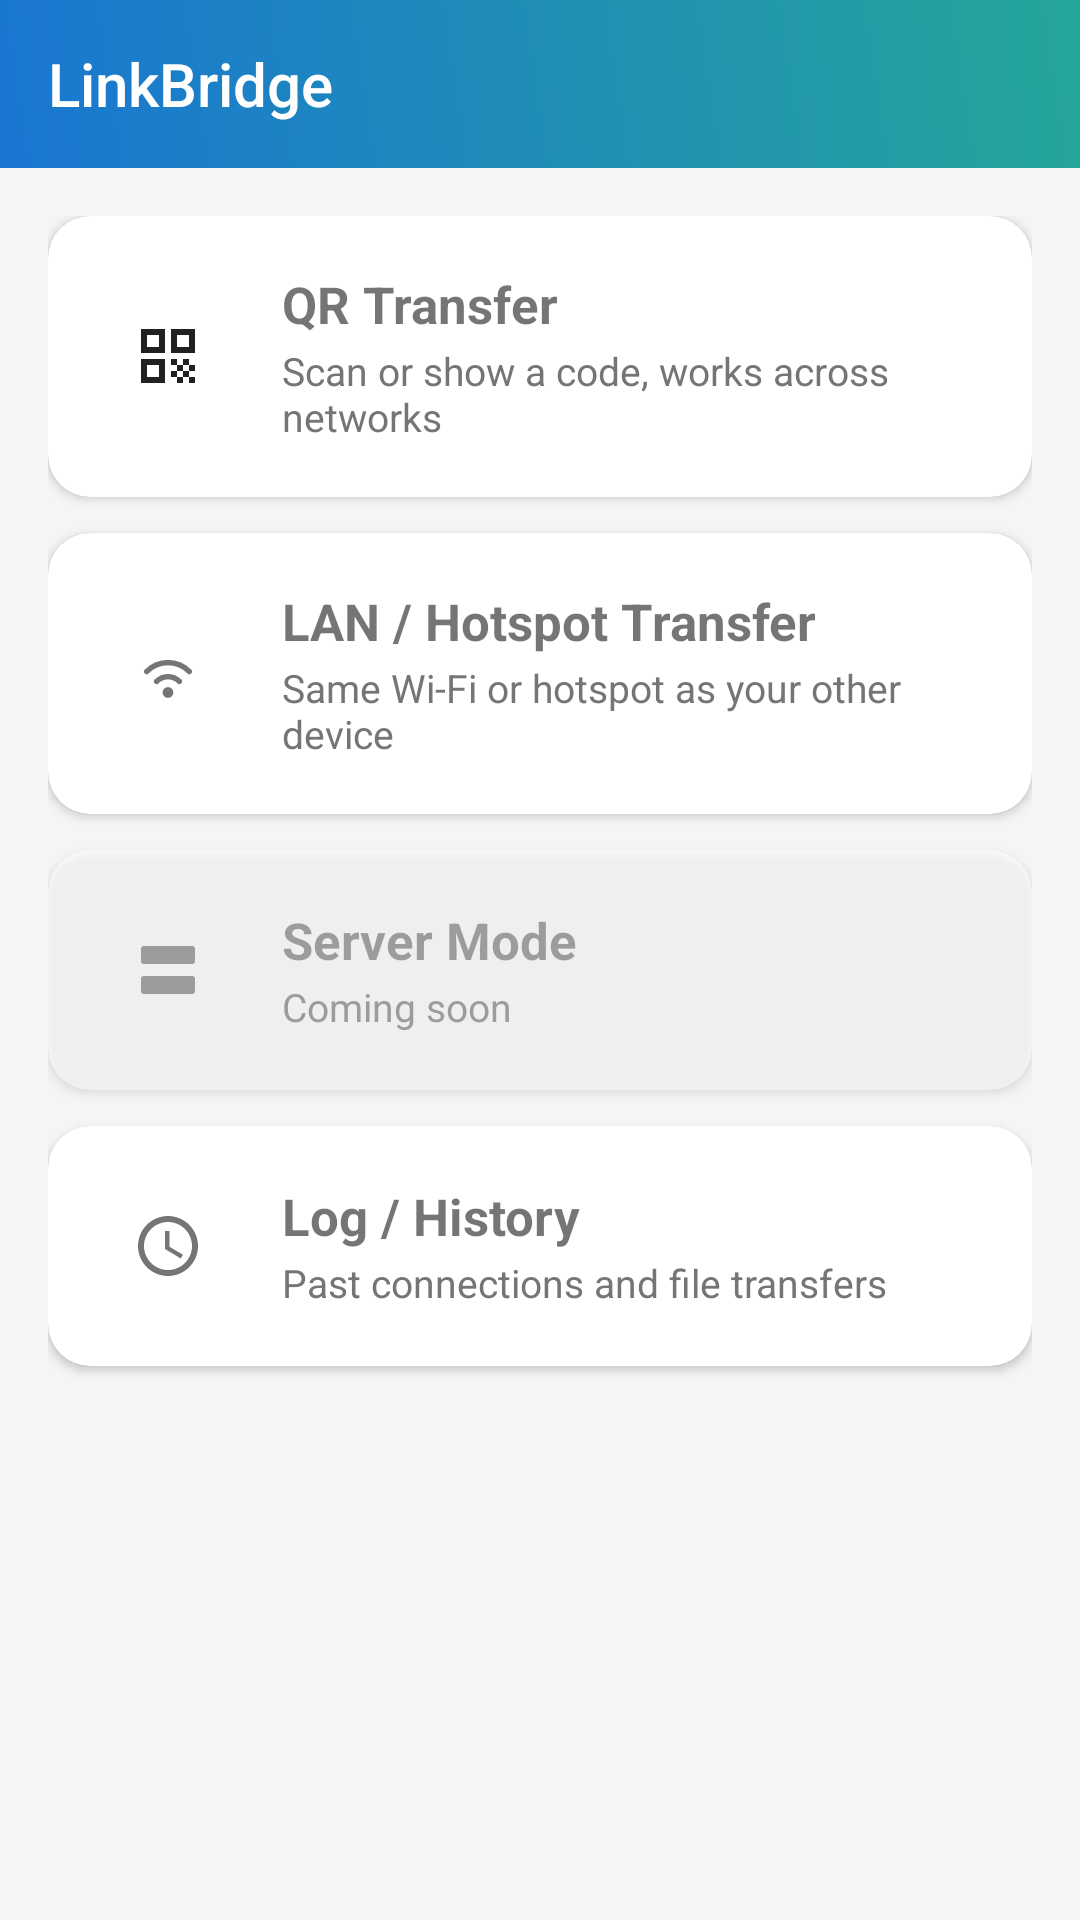

Where to tap for icons on this 1080px x 1920px app screen, as [x,y]:
qr code: [168,356]
